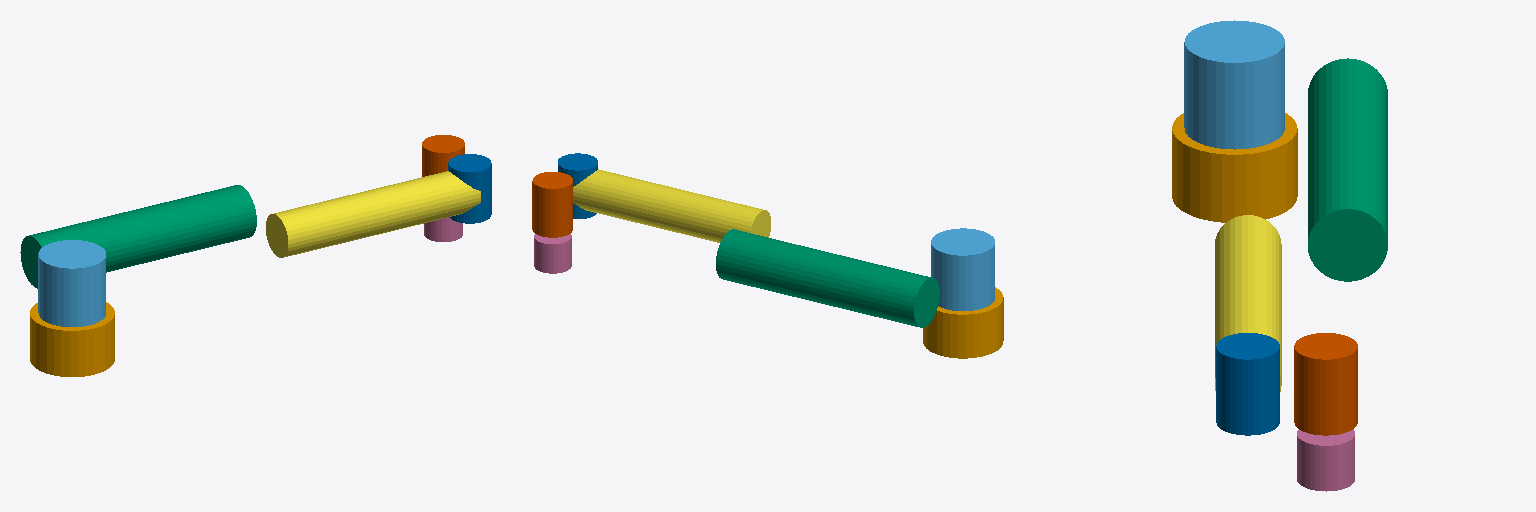
The robot description file, URDF, robot "cobot_ur5e_6dof":
<?xml version="1.0"?>
<robot name="cobot_ur5e_6dof">
  <link name="base_link">
    <inertial>
      <mass value="4.0"/>
      <inertia ixx="0.012" ixy="0" ixz="0" iyy="0.012" iyz="0" izz="0.015"/>
    </inertial>
    <visual><geometry><cylinder radius="0.075" length="0.09"/></geometry></visual>
    <collision><geometry><cylinder radius="0.075" length="0.09"/></geometry></collision>
  </link>

  <link name="shoulder_link">
    <inertial>
      <mass value="3.7"/>
      <inertia ixx="0.010" ixy="0" ixz="0" iyy="0.010" iyz="0" izz="0.008"/>
    </inertial>
    <visual><geometry><cylinder radius="0.06" length="0.14"/></geometry></visual>
    <collision><geometry><cylinder radius="0.06" length="0.14"/></geometry></collision>
  </link>

  <link name="upper_arm_link">
    <inertial>
      <origin xyz="0 0 0.2125" rpy="0 0 0"/>
      <mass value="8.4"/>
      <inertia ixx="0.135" ixy="0" ixz="0" iyy="0.135" iyz="0" izz="0.018"/>
    </inertial>
    <visual>
      <origin xyz="0 0 0.2125" rpy="0 0 0"/>
      <geometry><cylinder radius="0.048" length="0.425"/></geometry>
    </visual>
    <collision>
      <origin xyz="0 0 0.2125" rpy="0 0 0"/>
      <geometry><cylinder radius="0.048" length="0.425"/></geometry>
    </collision>
  </link>

  <link name="forearm_link">
    <inertial>
      <origin xyz="0 0 0.196" rpy="0 0 0"/>
      <mass value="2.3"/>
      <inertia ixx="0.032" ixy="0" ixz="0" iyy="0.032" iyz="0" izz="0.006"/>
    </inertial>
    <visual>
      <origin xyz="0 0 0.196" rpy="0 0 0"/>
      <geometry><cylinder radius="0.040" length="0.392"/></geometry>
    </visual>
    <collision>
      <origin xyz="0 0 0.196" rpy="0 0 0"/>
      <geometry><cylinder radius="0.040" length="0.392"/></geometry>
    </collision>
  </link>

  <link name="wrist_1_link">
    <inertial>
      <mass value="1.2"/>
      <inertia ixx="0.003" ixy="0" ixz="0" iyy="0.003" iyz="0" izz="0.002"/>
    </inertial>
    <visual><geometry><cylinder radius="0.038" length="0.10"/></geometry></visual>
    <collision><geometry><cylinder radius="0.038" length="0.10"/></geometry></collision>
  </link>

  <link name="wrist_2_link">
    <inertial>
      <mass value="1.2"/>
      <inertia ixx="0.003" ixy="0" ixz="0" iyy="0.003" iyz="0" izz="0.002"/>
    </inertial>
    <visual><geometry><cylinder radius="0.038" length="0.10"/></geometry></visual>
    <collision><geometry><cylinder radius="0.038" length="0.10"/></geometry></collision>
  </link>

  <link name="wrist_3_link">
    <inertial>
      <mass value="0.45"/>
      <inertia ixx="0.001" ixy="0" ixz="0" iyy="0.001" iyz="0" izz="0.001"/>
    </inertial>
    <visual><geometry><cylinder radius="0.035" length="0.06"/></geometry></visual>
    <collision><geometry><cylinder radius="0.035" length="0.06"/></geometry></collision>
  </link>

  <joint name="shoulder_pan_joint" type="revolute">
    <parent link="base_link"/><child link="shoulder_link"/>
    <origin xyz="0 0 0.089" rpy="0 0 0"/><axis xyz="0 0 1"/>
    <limit lower="-6.283" upper="6.283" effort="150.0" velocity="3.14"/>
  </joint>

  <joint name="shoulder_lift_joint" type="revolute">
    <parent link="shoulder_link"/><child link="upper_arm_link"/>
    <origin xyz="0 0.135 0" rpy="0 1.5708 0"/><axis xyz="0 1 0"/>
    <limit lower="-6.283" upper="6.283" effort="150.0" velocity="3.14"/>
  </joint>

  <joint name="elbow_joint" type="revolute">
    <parent link="upper_arm_link"/><child link="forearm_link"/>
    <origin xyz="0 -0.119 0.425" rpy="0 0 0"/><axis xyz="0 1 0"/>
    <limit lower="-3.1415" upper="3.1415" effort="150.0" velocity="3.14"/>
  </joint>

  <joint name="wrist_1_joint" type="revolute">
    <parent link="forearm_link"/><child link="wrist_1_link"/>
    <origin xyz="0 0 0.392" rpy="0 1.5708 0"/><axis xyz="0 1 0"/>
    <limit lower="-6.283" upper="6.283" effort="28.0" velocity="6.28"/>
  </joint>

  <joint name="wrist_2_joint" type="revolute">
    <parent link="wrist_1_link"/><child link="wrist_2_link"/>
    <origin xyz="0 0.093 0" rpy="0 0 0"/><axis xyz="0 0 1"/>
    <limit lower="-6.283" upper="6.283" effort="28.0" velocity="6.28"/>
  </joint>

  <joint name="wrist_3_joint" type="revolute">
    <parent link="wrist_2_link"/><child link="wrist_3_link"/>
    <origin xyz="0 0 0.095" rpy="0 0 0"/><axis xyz="0 1 0"/>
    <limit lower="-6.283" upper="6.283" effort="28.0" velocity="6.28"/>
  </joint>
</robot>

--- Render facts (derived) ---
The picture shows the robot from 3 angles, left to right: view 1: azimuth 30°, elevation 25°; view 2: azimuth 150°, elevation 25°; view 3: azimuth 270°, elevation 25°; orthographic projection.
Model cobot_ur5e_6dof with 7 links and 6 joints (6 revolute), rooted at base_link, posed all joints at 0.
Links seen in each view (by area): view 1: upper_arm_link, forearm_link, shoulder_link, base_link, wrist_1_link, wrist_2_link, wrist_3_link; view 2: upper_arm_link, forearm_link, shoulder_link, base_link, wrist_2_link, wrist_3_link, wrist_1_link; view 3: upper_arm_link, shoulder_link, base_link, forearm_link, wrist_2_link, wrist_1_link, wrist_3_link.
Link boxes in pixels (x1=…): upper_arm_link: x1=20, y1=185, x2=256, y2=288; forearm_link: x1=266, y1=171, x2=480, y2=257; shoulder_link: x1=38, y1=240, x2=105, y2=326; base_link: x1=30, y1=302, x2=114, y2=376; wrist_1_link: x1=448, y1=154, x2=491, y2=223; wrist_2_link: x1=422, y1=135, x2=464, y2=176; wrist_3_link: x1=424, y1=217, x2=462, y2=241; upper_arm_link: x1=716, y1=229, x2=939, y2=327; forearm_link: x1=573, y1=169, x2=770, y2=242; shoulder_link: x1=931, y1=228, x2=994, y2=310; base_link: x1=923, y1=287, x2=1003, y2=358; wrist_2_link: x1=532, y1=172, x2=572, y2=237; wrist_3_link: x1=534, y1=234, x2=571, y2=273; wrist_1_link: x1=558, y1=153, x2=597, y2=218; upper_arm_link: x1=1308, y1=58, x2=1387, y2=281; shoulder_link: x1=1184, y1=20, x2=1284, y2=149; base_link: x1=1172, y1=113, x2=1297, y2=222; forearm_link: x1=1215, y1=215, x2=1281, y2=391; wrist_2_link: x1=1294, y1=333, x2=1357, y2=435; wrist_1_link: x1=1216, y1=333, x2=1279, y2=435; wrist_3_link: x1=1297, y1=429, x2=1354, y2=491.
Bounding box of the posed robot: 0.93 × 0.258 × 0.204 m (x, y, z).
Geometry: primitives only (box / cylinder / sphere), no mesh files.
